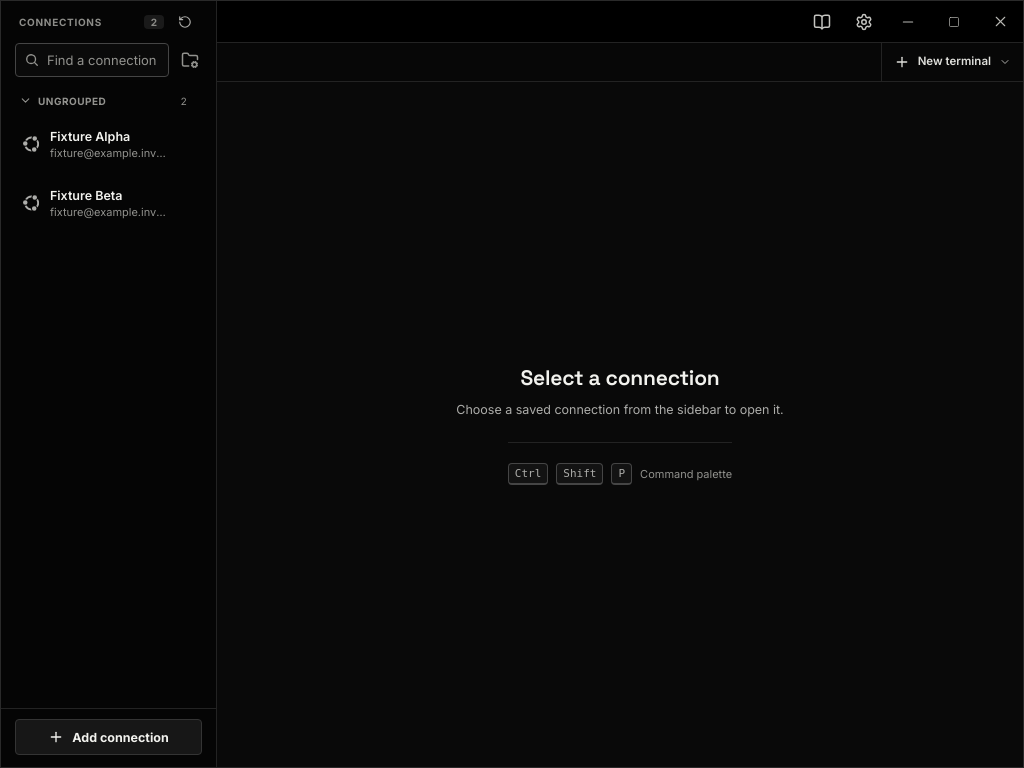
it: complete app journeys with typed IPC fixtures › gives local terminals the full connection list and restores remote navigation
The width and height of the screenshot is (1024, 768).
Check: the navigation bar named "Saved connections" is shown, box left=11, top=87, right=195, bottom=232
Click the button "Fixture Alpha fixture@example.invalid": x=103, y=144 left=11, top=115, right=195, bottom=173
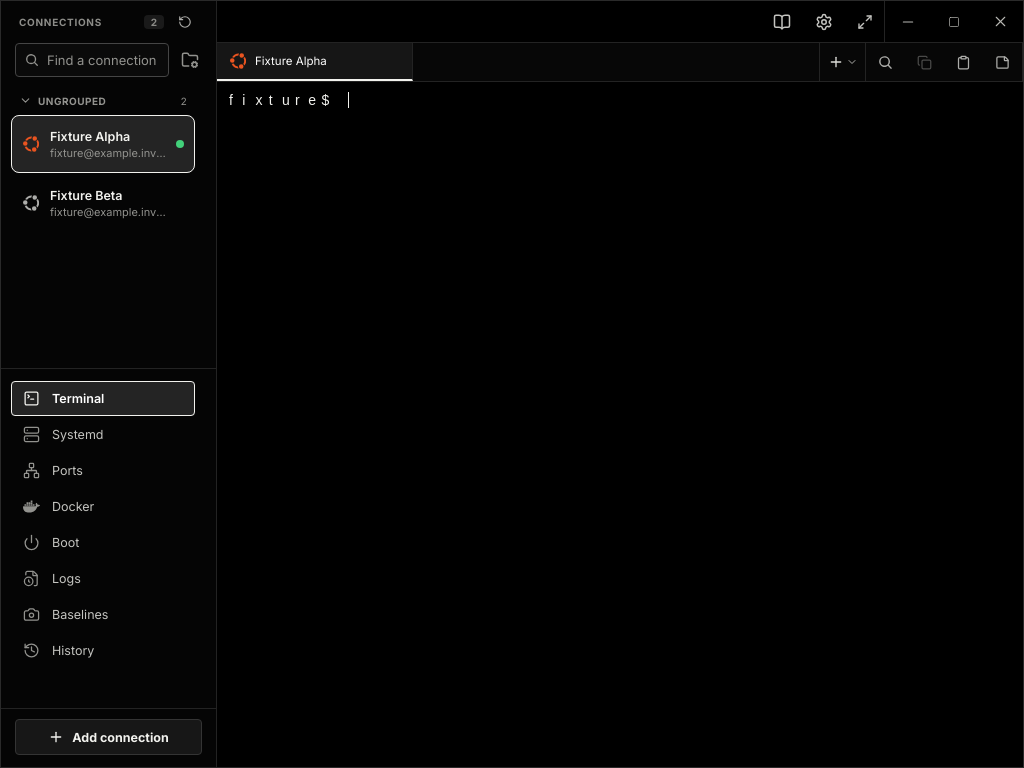
Check: the navigation bar named "Workspace features" is shown, box left=11, top=381, right=195, bottom=668
Check: the element named "Resize Hosts and Capabilities" is shown, box left=1, top=356, right=205, bottom=380
Click the button named "New terminal": x=842, y=62 left=819, top=43, right=865, bottom=81
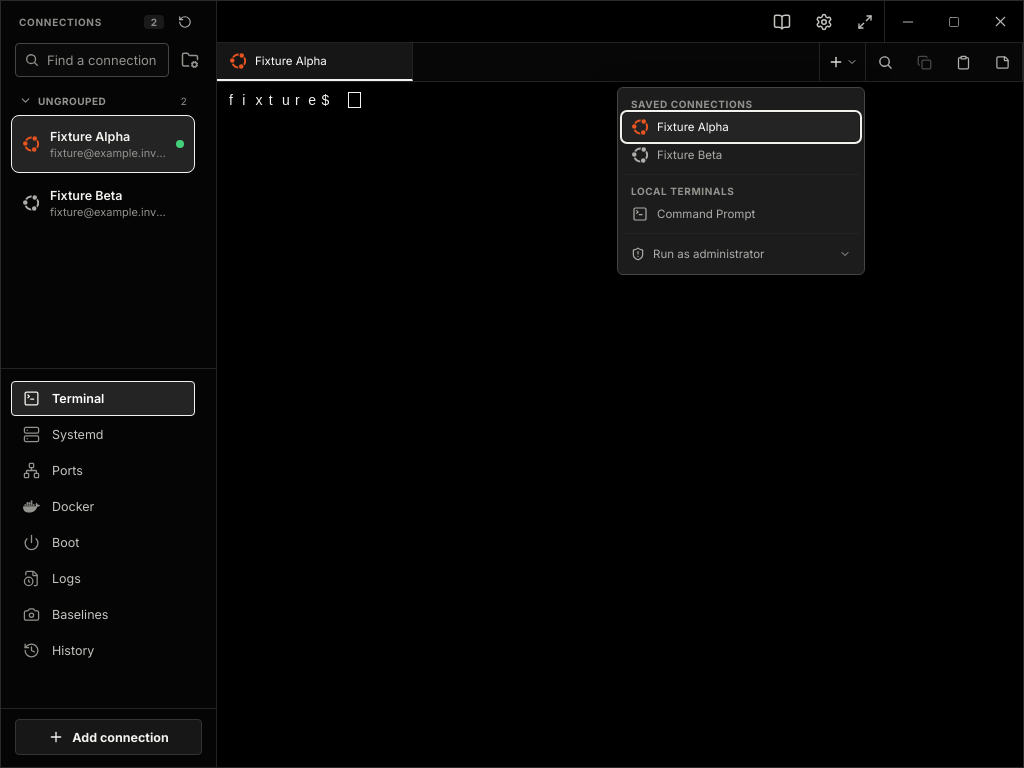
Click the button with aria-label "Local terminals: Command Prompt": x=741, y=214 left=623, top=200, right=859, bottom=228
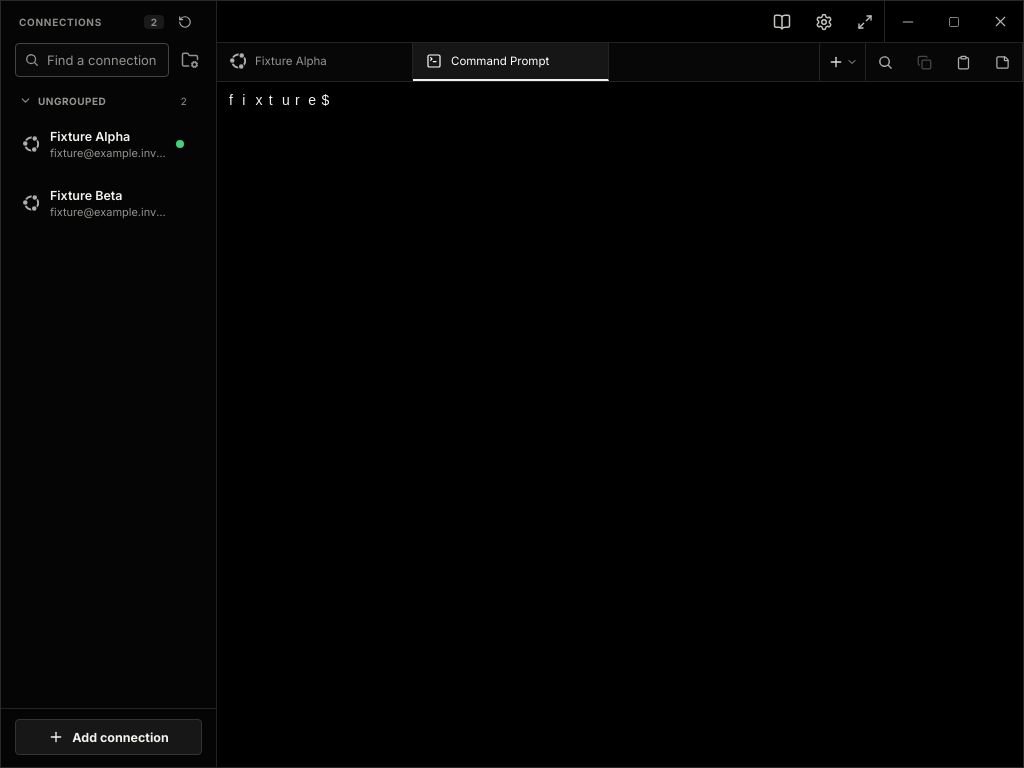
Click the button "Fixture Alpha fixture@example.invalid": x=103, y=144 left=11, top=115, right=195, bottom=173
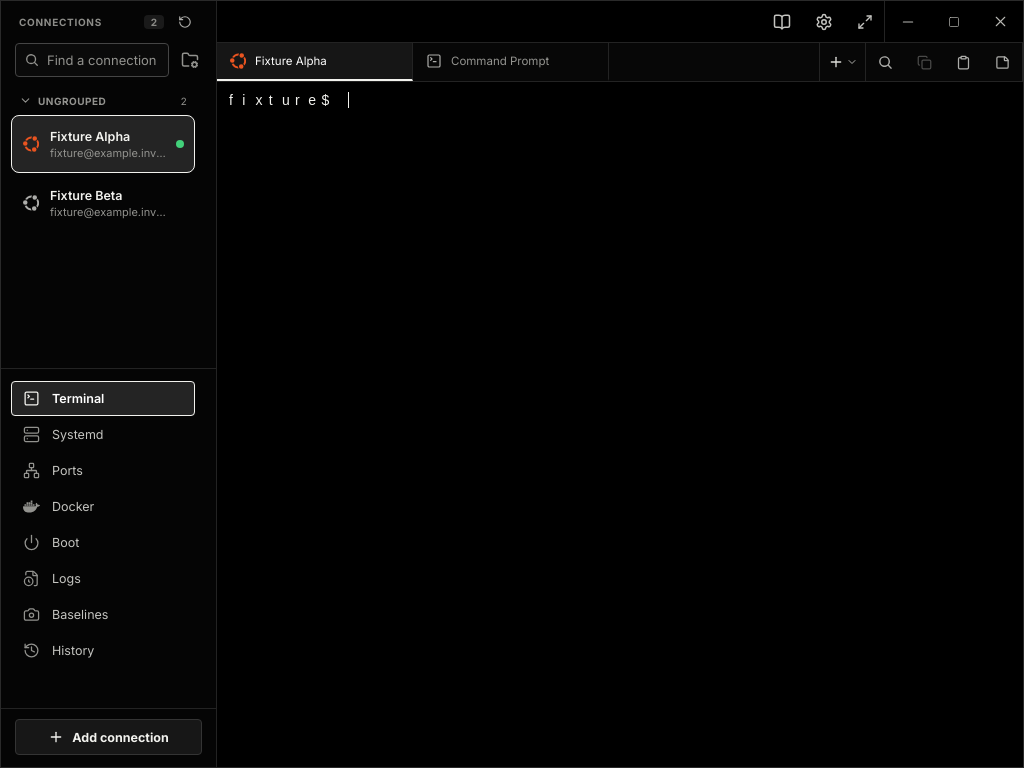
Check: the element named "Resize Hosts and Capabilities" is shown, box left=1, top=356, right=205, bottom=380
Check: the navigation bar named "Workspace features" is shown, box left=11, top=381, right=195, bottom=668
